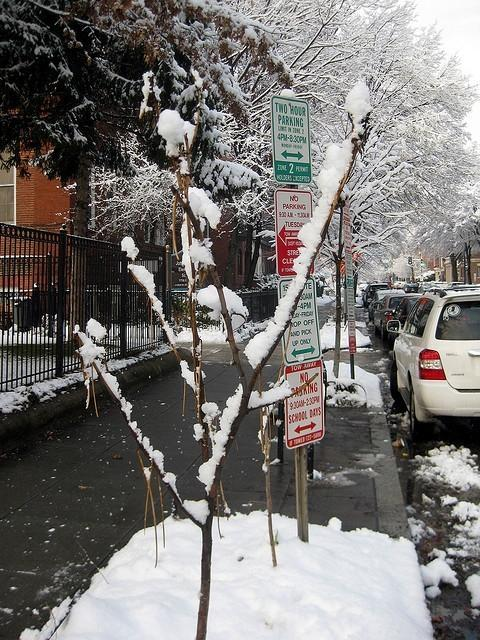car: (388, 288, 478, 442), (373, 292, 421, 350), (384, 296, 419, 349), (368, 290, 406, 322), (368, 285, 391, 304), (360, 285, 378, 307), (402, 282, 419, 294), (358, 284, 369, 296), (382, 281, 393, 289)
